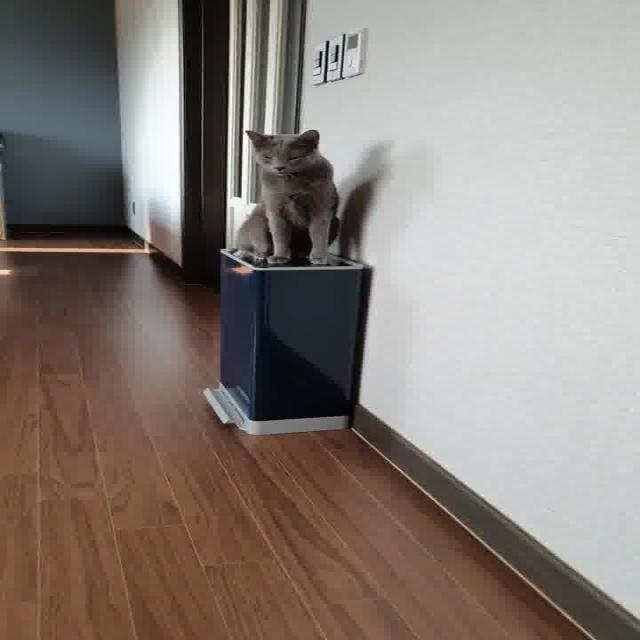cat: (197, 121, 367, 277)
